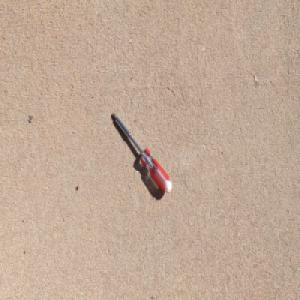Screwdriver: (111, 109, 172, 195)
